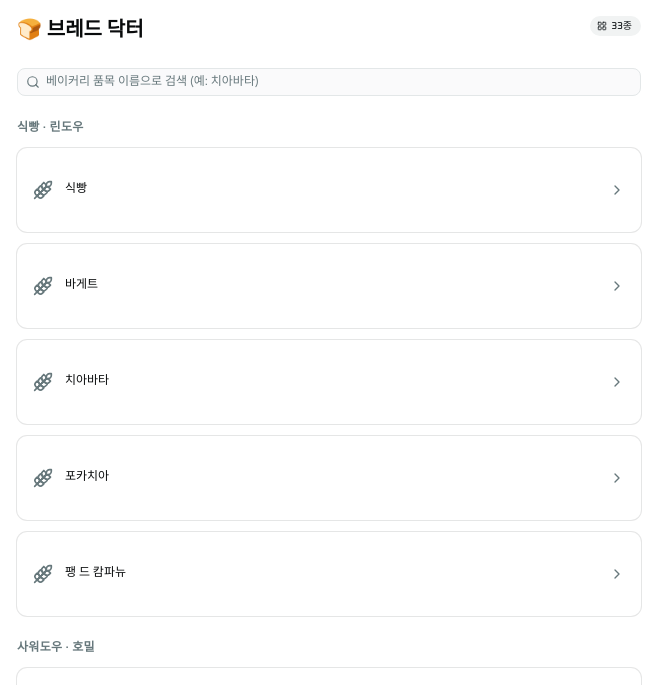
BreadDoctor › 식빵 카드를 선택하면 증상 화면으로 전환된다
This screenshot has width=659, height=685.
Click the button "식빵": [43, 190] box [17,164,641,216]
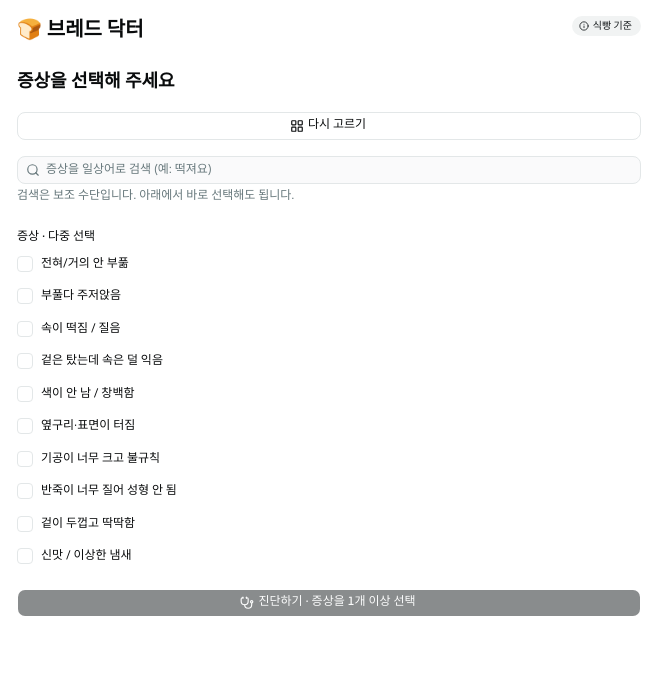
Expected: the heading "증상을 선택해 주세요" is shown, [17,73,175,91]
